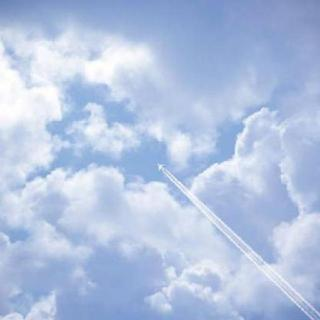Contrails: (161, 169, 320, 320)
